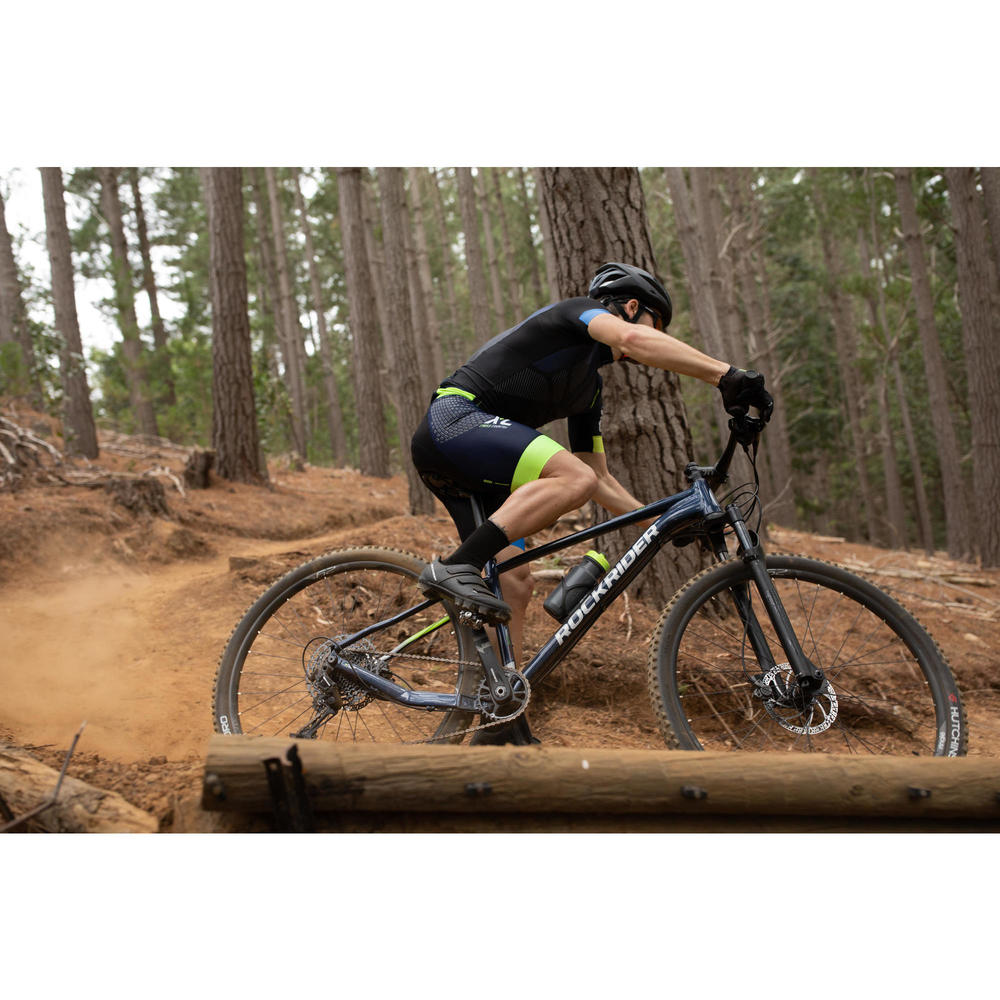MountainBike: (205, 361, 963, 767)
